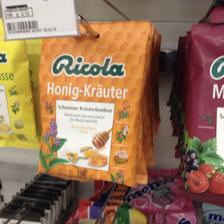Suessigkeit: (34, 22, 148, 186), (179, 27, 223, 197), (0, 18, 28, 146)
